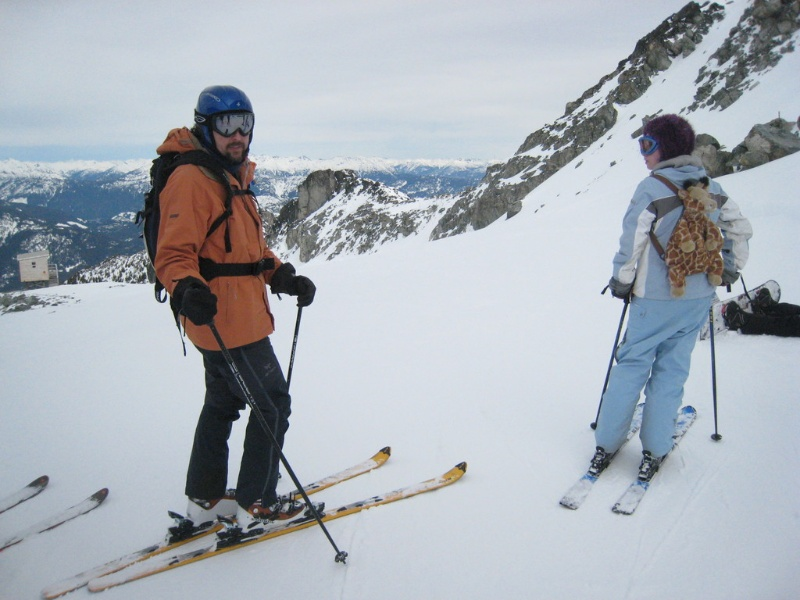helmet: (640, 117, 704, 163), (195, 87, 258, 121)
